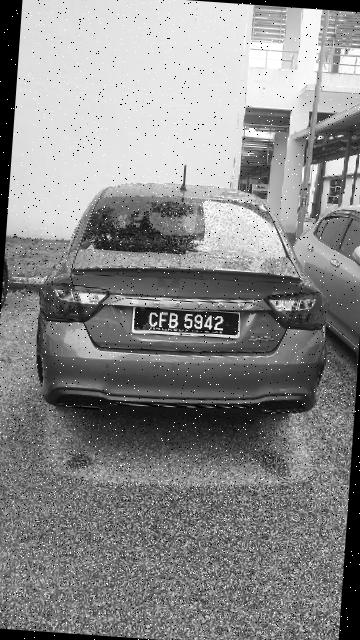License_Plate: (120, 292, 252, 345)
car: (28, 164, 341, 432)
